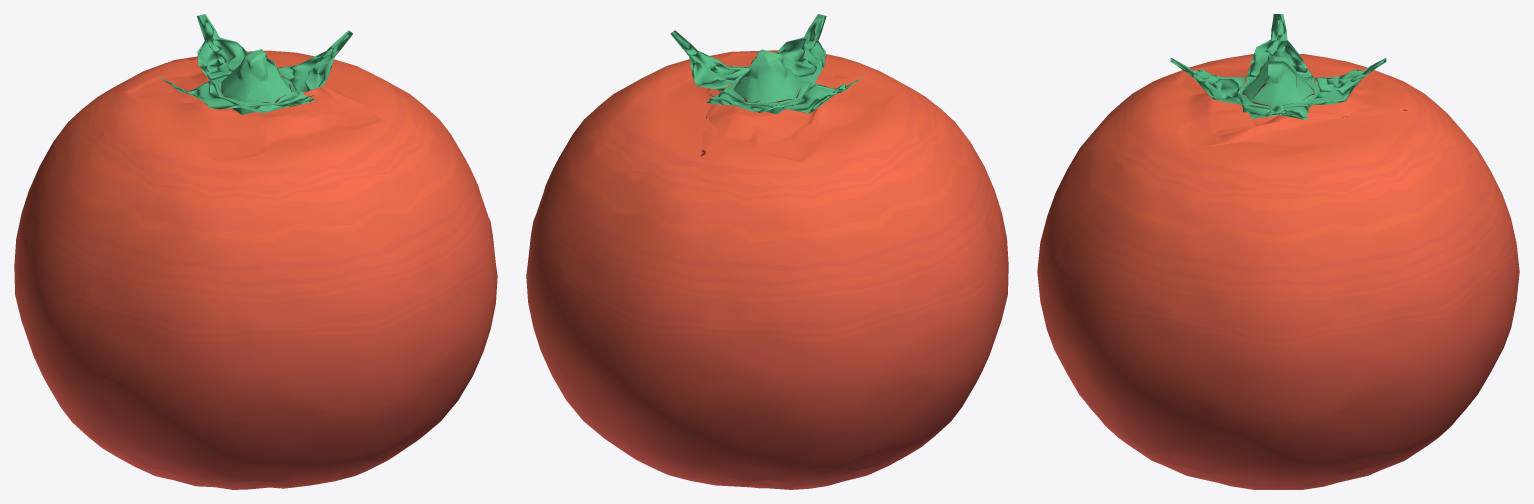
3 views of the same model, side by side, from view 1: azimuth 30°, elevation 25°; view 2: azimuth 150°, elevation 25°; view 3: azimuth 270°, elevation 25° (orthographic).
Size of the model in its own units: 0.9099 by 0.7882 by 0.9074.
1 material, 1 textured.
